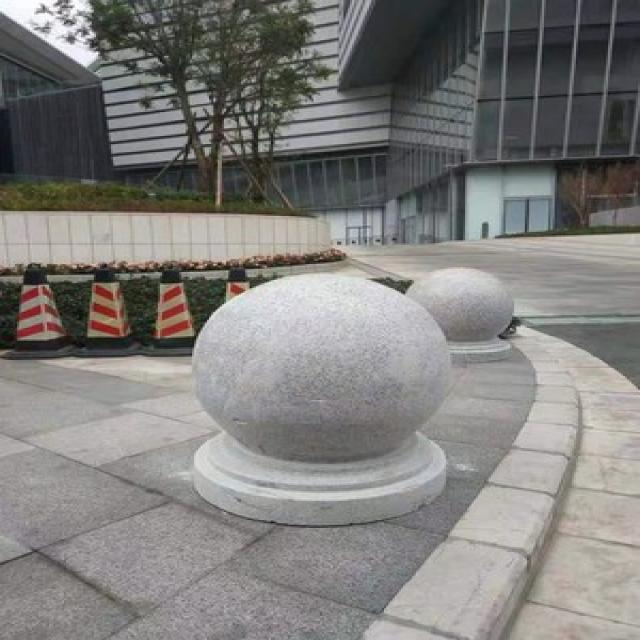reflective_cone: (2, 261, 77, 357), (72, 261, 141, 355), (141, 264, 194, 355), (222, 264, 254, 298)
spherical_roadblock: (180, 272, 454, 523), (401, 266, 516, 362)
